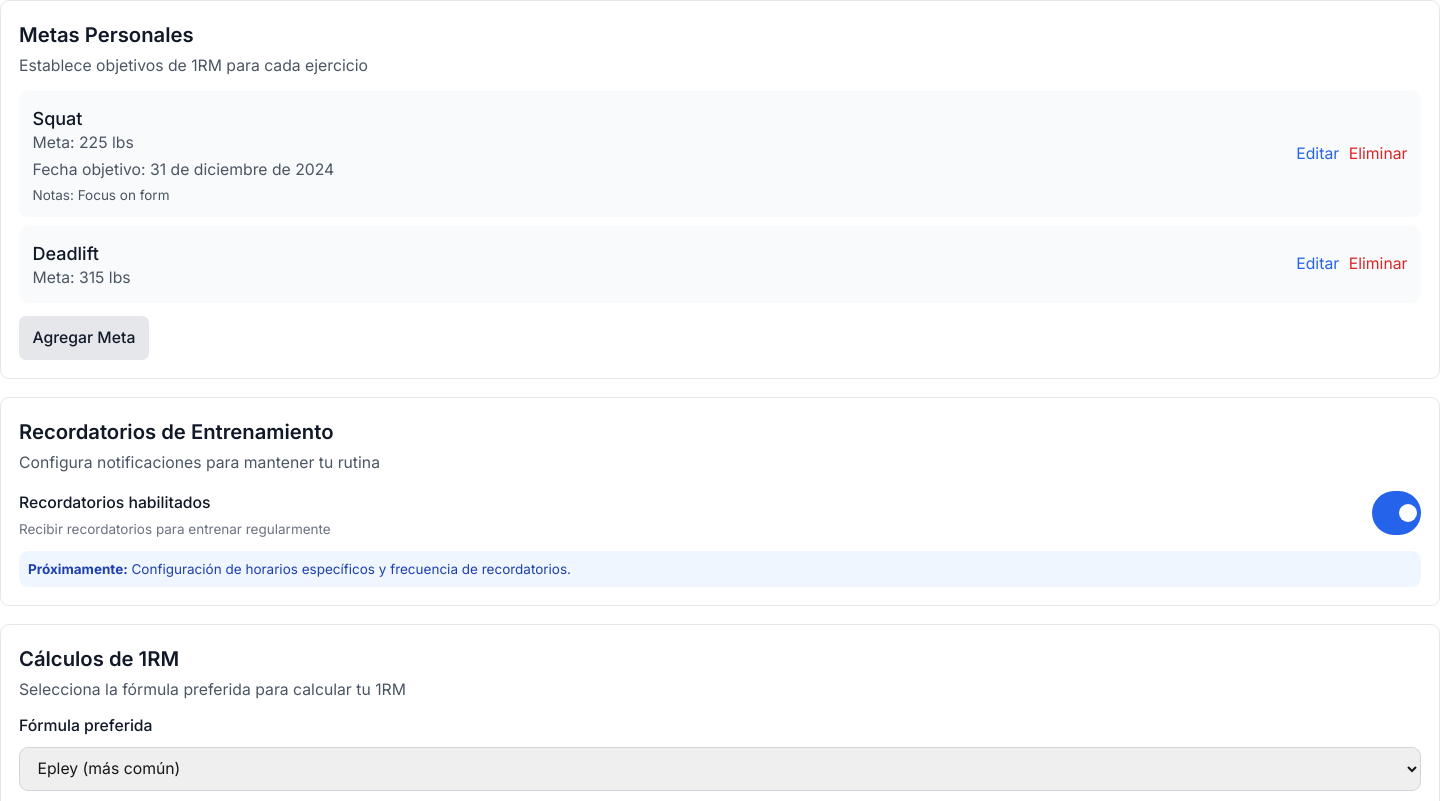
TrainingSection › opens goal form when add button is clicked
Click the button "Agregar Meta" at point(84, 338), box [19,316,149,360]
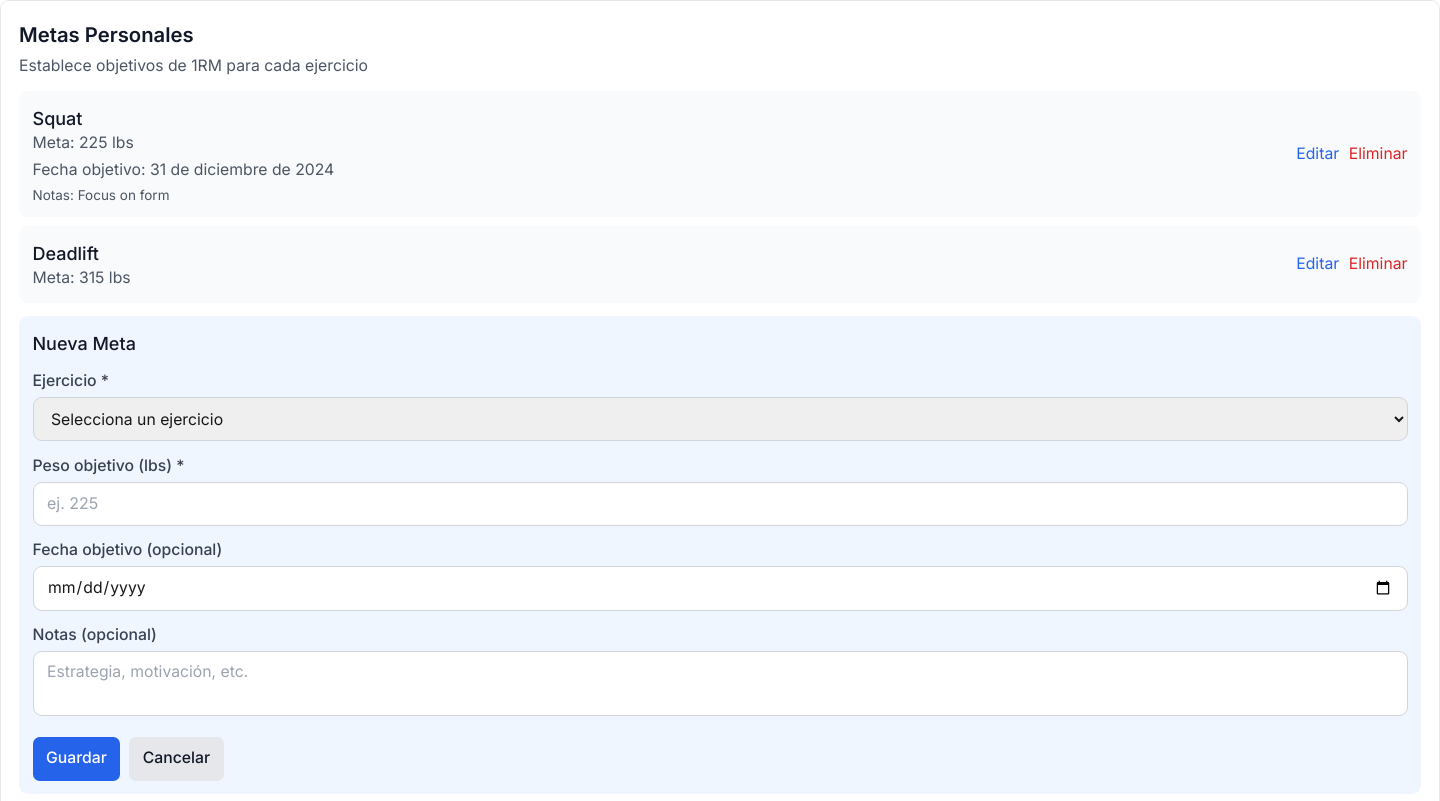
Now the heading "Nueva Meta" is shown, box [32,332,136,354]
Now the dropdown labelled "Ejercicio *" is shown, box [32,397,1408,441]
Now the number field labelled "Peso objetivo (lbs) *" is shown, box [32,482,1408,526]
